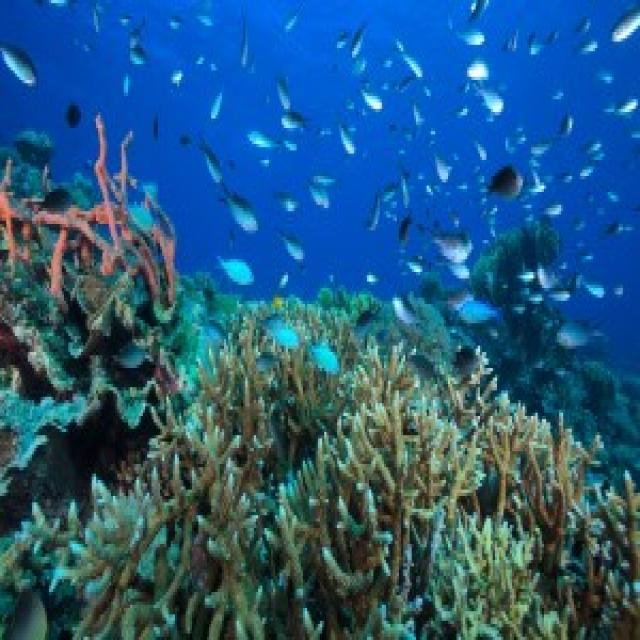Healthy: (1, 311, 639, 638), (1, 135, 176, 414)
